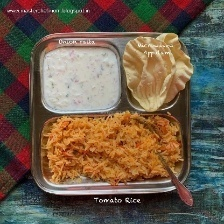rice: (43, 111, 185, 187)
